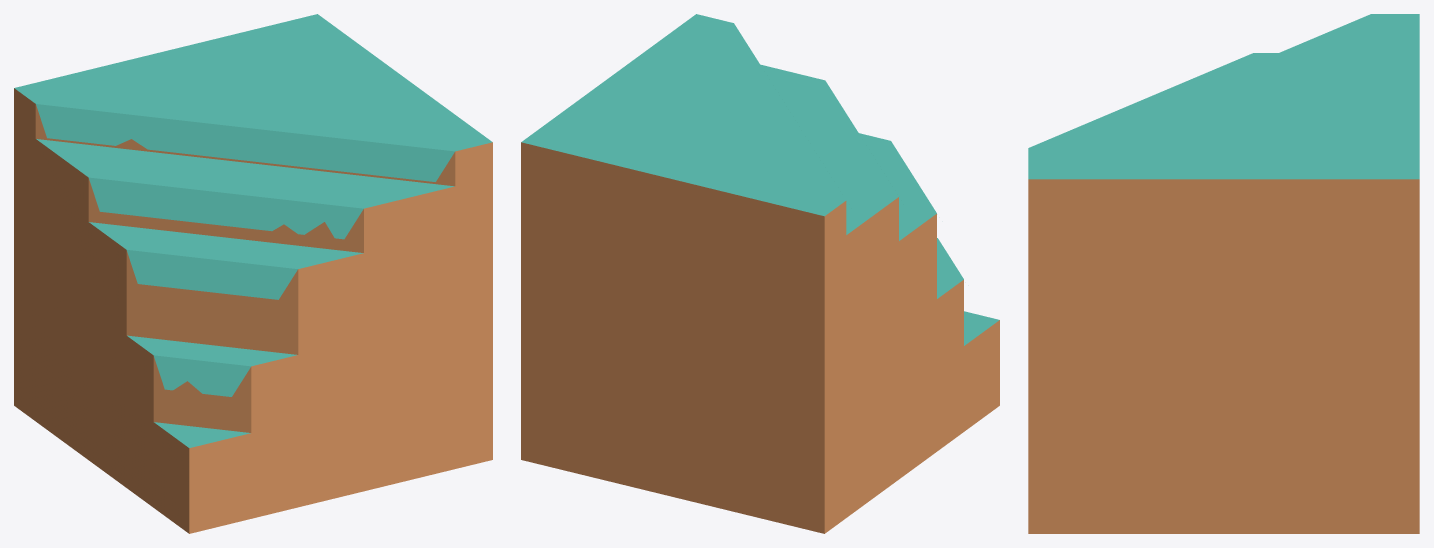
The model's file is cliffBrown_stepsCornerInner.fbx.
3 renders of one model, left to right at view 1: azimuth 30°, elevation 25°; view 2: azimuth 150°, elevation 25°; view 3: azimuth 270°, elevation 25°, orthographic. The views are drawn at different scales.
Visible parts, largest first — view 1: cliffBrown_stepsCornerInner; view 2: cliffBrown_stepsCornerInner; view 3: cliffBrown_stepsCornerInner.
Boxes of the visible parts, x1=… form: cliffBrown_stepsCornerInner: x1=14, y1=14, x2=492, y2=533; cliffBrown_stepsCornerInner: x1=521, y1=14, x2=999, y2=533; cliffBrown_stepsCornerInner: x1=1028, y1=14, x2=1419, y2=533.
Bounding box in the file's own units: 10 × 10 × 10.
